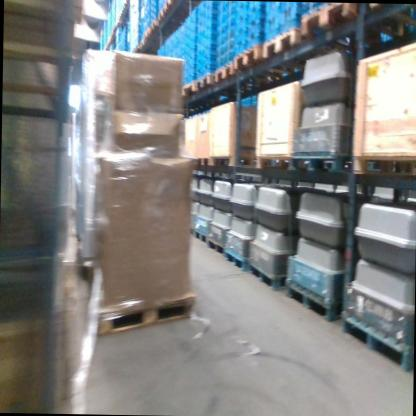pallet: (94, 288, 194, 339), (339, 309, 414, 372), (284, 276, 342, 321), (301, 2, 357, 38), (289, 150, 353, 174), (262, 25, 302, 61), (247, 259, 287, 291), (232, 41, 262, 72), (223, 248, 248, 272), (214, 62, 235, 82), (195, 72, 214, 90), (207, 237, 225, 254), (195, 229, 209, 244), (193, 157, 210, 167), (158, 3, 165, 21), (149, 19, 158, 33), (143, 27, 150, 38), (133, 44, 141, 53), (165, 0, 172, 10), (140, 37, 147, 47), (189, 227, 196, 237), (123, 0, 130, 9)
small_load_carrier: (246, 29, 263, 49), (247, 4, 264, 24), (247, 18, 264, 37), (233, 39, 247, 56), (235, 11, 247, 29), (235, 24, 246, 43), (236, 1, 247, 14), (248, 1, 265, 9)
